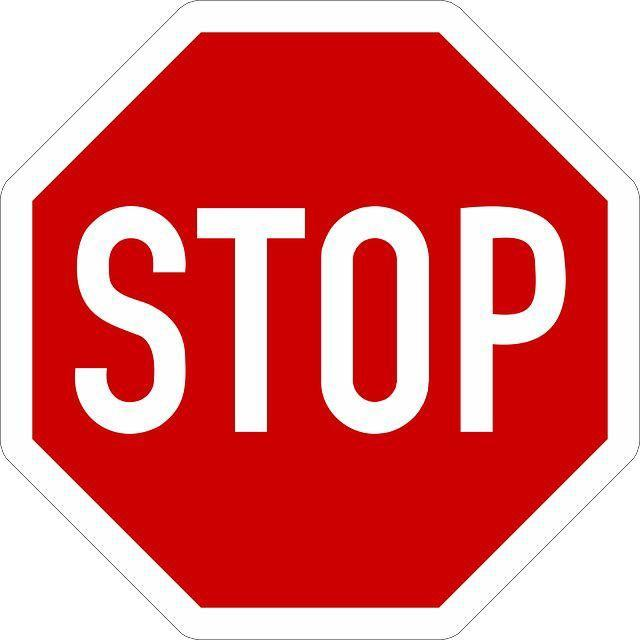stop: (1, 1, 637, 634)
